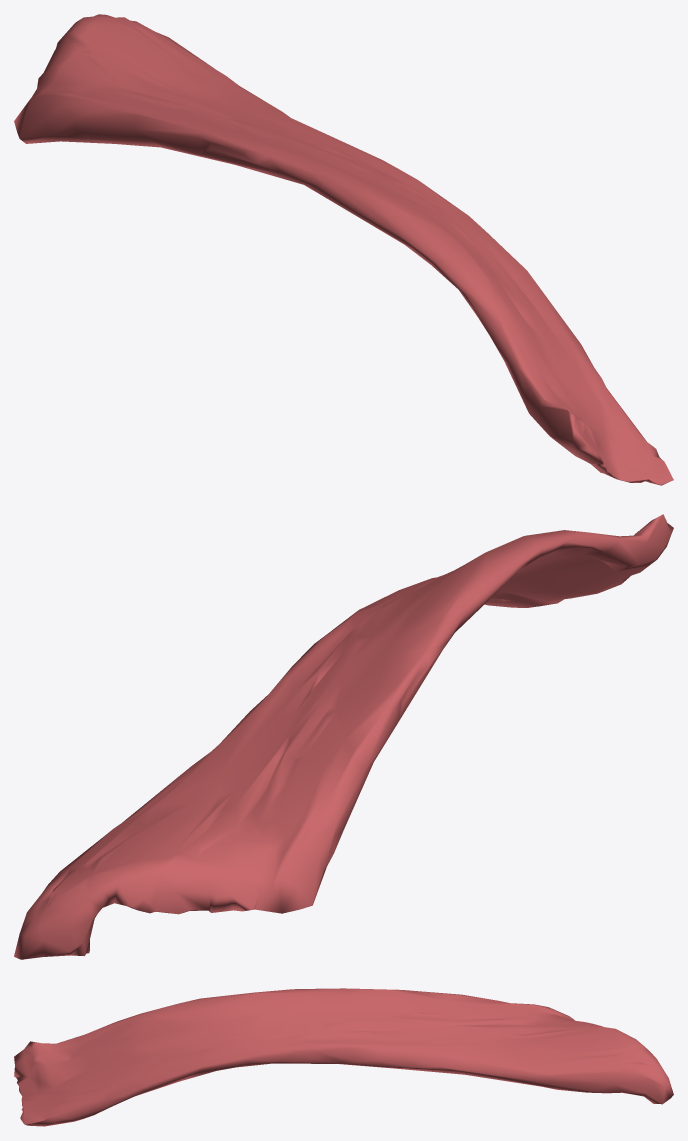
The picture shows the model from 3 angles, top to bottom: view 1: azimuth 30°, elevation 25°; view 2: azimuth 150°, elevation 25°; view 3: azimuth 270°, elevation 25°; orthographic projection. The views are drawn at different scales.
Parts seen in each view (by area): view 1: 右侧胸骨舌骨肌; view 2: 右侧胸骨舌骨肌; view 3: 右侧胸骨舌骨肌.
Part boxes in pixels (<box>): 右侧胸骨舌骨肌: <box>14,14,673,485</box>; 右侧胸骨舌骨肌: <box>14,514,673,959</box>; 右侧胸骨舌骨肌: <box>14,988,673,1126</box>.
Bounding box in the file's own units: 0.0351 × 0.0275 × 0.1593.
